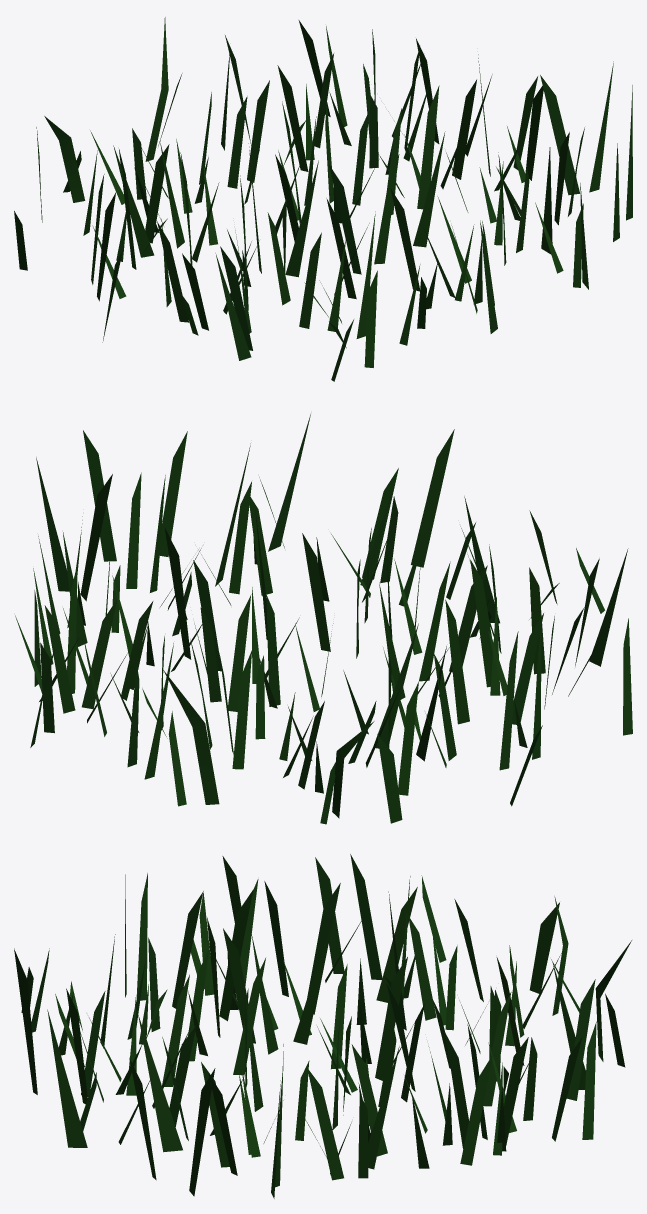
Rendered from grass_2.obj.
3 renders of one model, top to bottom at view 1: azimuth 30°, elevation 25°; view 2: azimuth 150°, elevation 25°; view 3: azimuth 270°, elevation 25°, orthographic. The views are drawn at different scales.
Visible parts, largest first — view 1: GrassLOD2; view 2: GrassLOD2; view 3: GrassLOD2.
Part boxes in pixels (x1,y1,x2,y2): GrassLOD2: (14,17,632,381); GrassLOD2: (15,414,632,824); GrassLOD2: (14,854,631,1198).
Size of the model in its own units: 0.8627 by 0.2243 by 0.8172.
